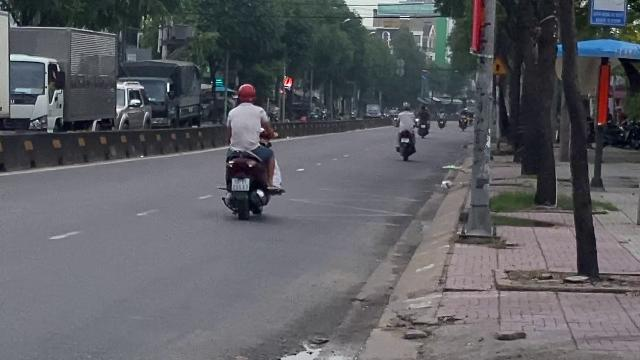helmet: (235, 82, 257, 104)
licenseplate: (232, 178, 248, 190)
motorcyclist: (218, 82, 284, 220)
